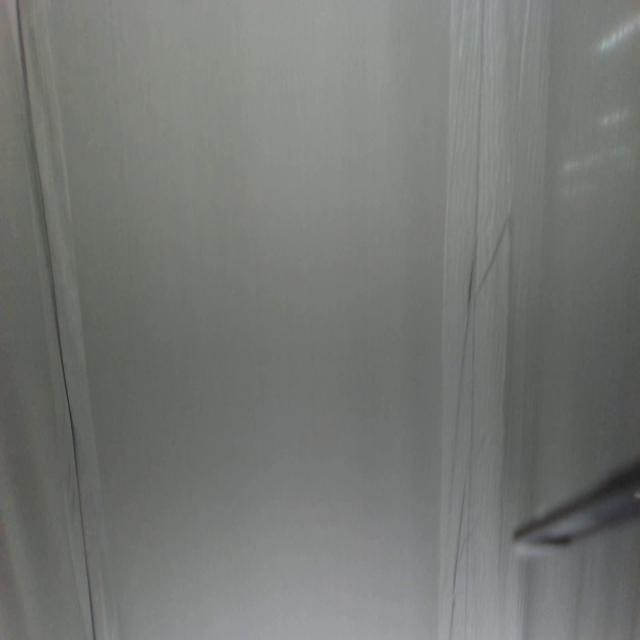crease: (12, 0, 112, 640), (439, 1, 490, 638)
